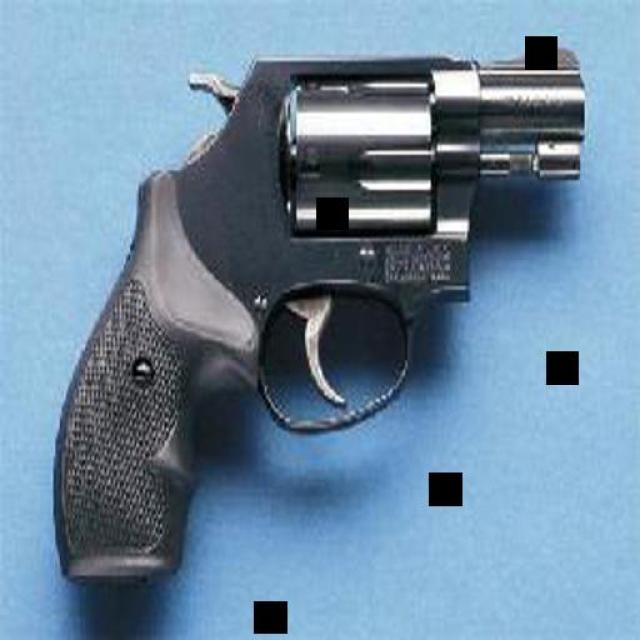gun: (54, 34, 585, 586)
